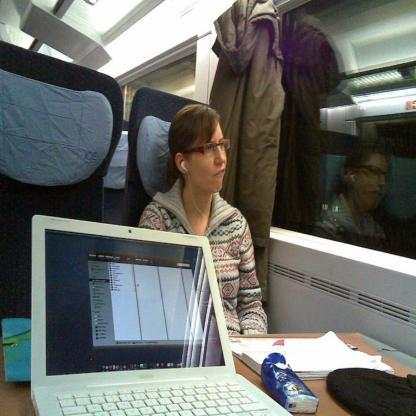board: (32, 212, 292, 416)
